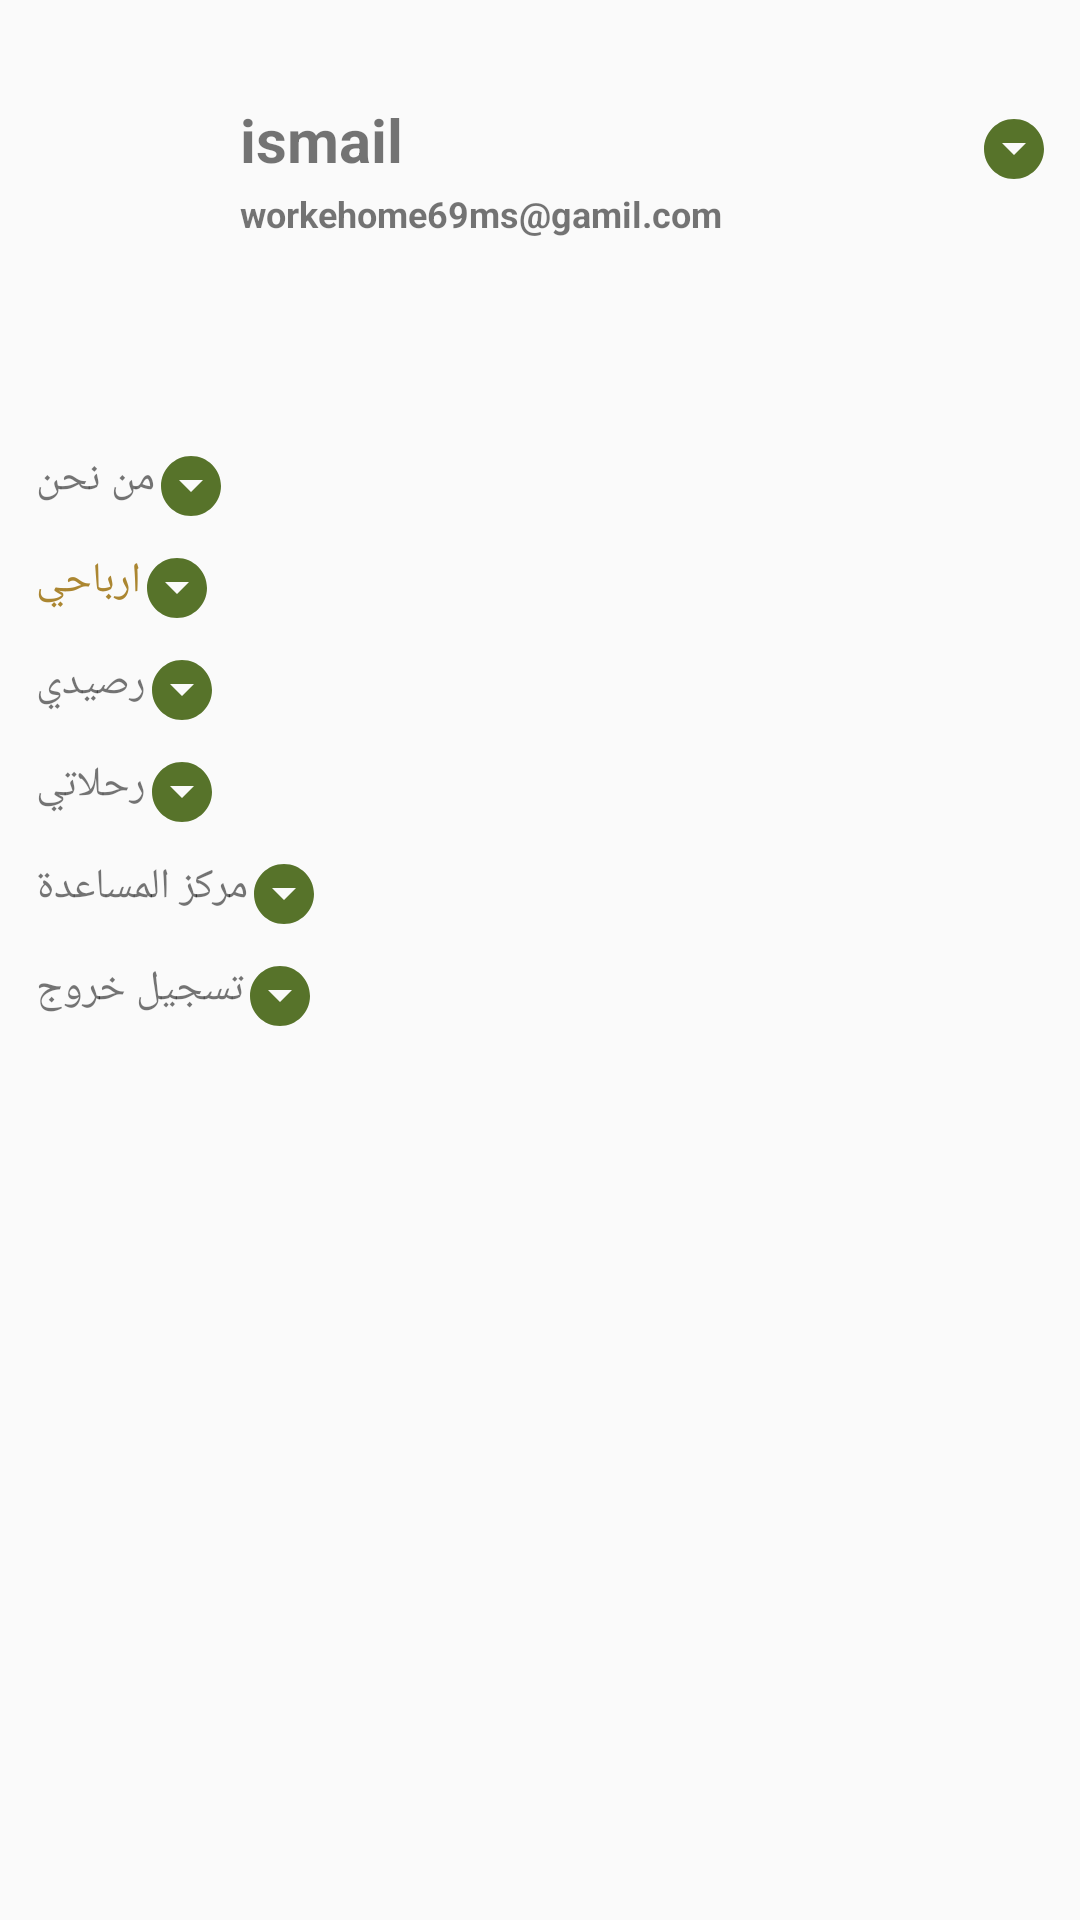

Icons on this 1080*1920 Android screen, each with the point to tap as (x=x, y=y):
drop down: (x=1014, y=149), (x=191, y=486), (x=177, y=588), (x=182, y=690), (x=182, y=792), (x=284, y=894), (x=280, y=996)
